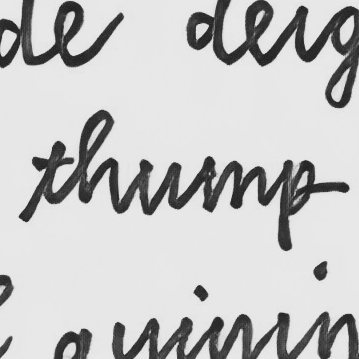h: (76, 108, 125, 216)
m: (199, 153, 269, 214)
p: (273, 157, 317, 255)
t: (28, 137, 77, 206)
u: (136, 156, 183, 218)
